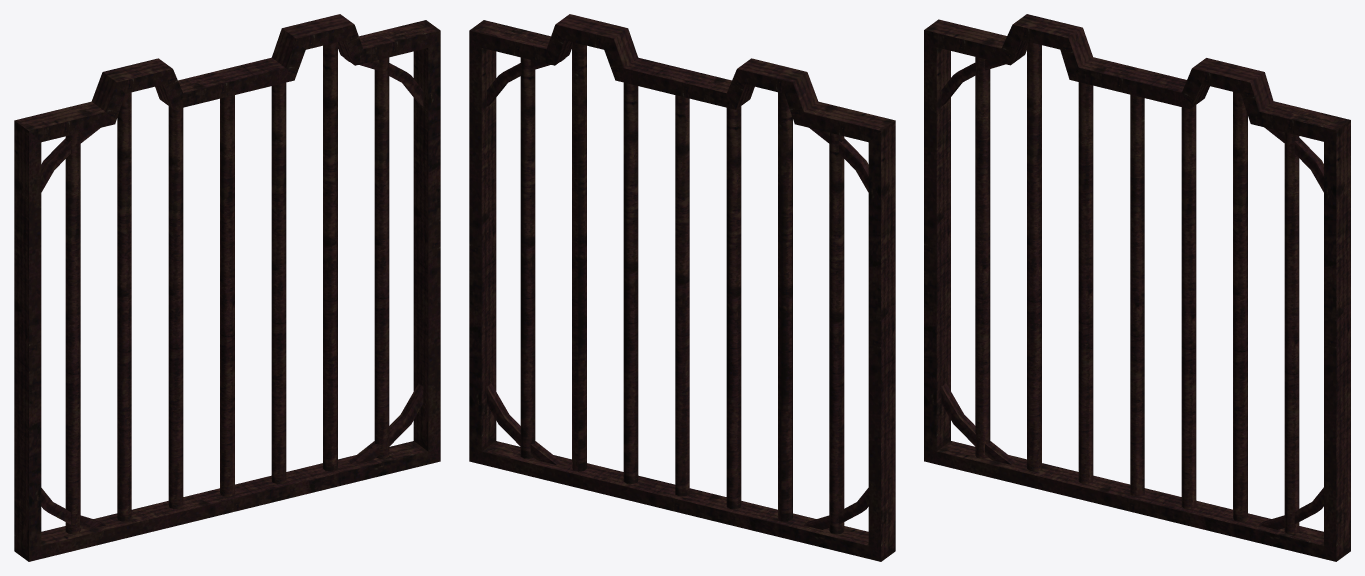
The model's file is sewer_grate_rusty.dae.
The picture shows the model from 3 angles, left to right: view 1: azimuth 30°, elevation 25°; view 2: azimuth 150°, elevation 25°; view 3: azimuth 330°, elevation 25°; orthographic projection.
Parts seen in each view (by area): view 1: polySurface18; view 2: polySurface18; view 3: polySurface18.
Part boxes in pixels (<box>): polySurface18: <box>14,14,440,561</box>; polySurface18: <box>469,14,895,561</box>; polySurface18: <box>924,14,1350,561</box>.
Bounding box in the file's own units: 4 × 4.25 × 0.2437.
